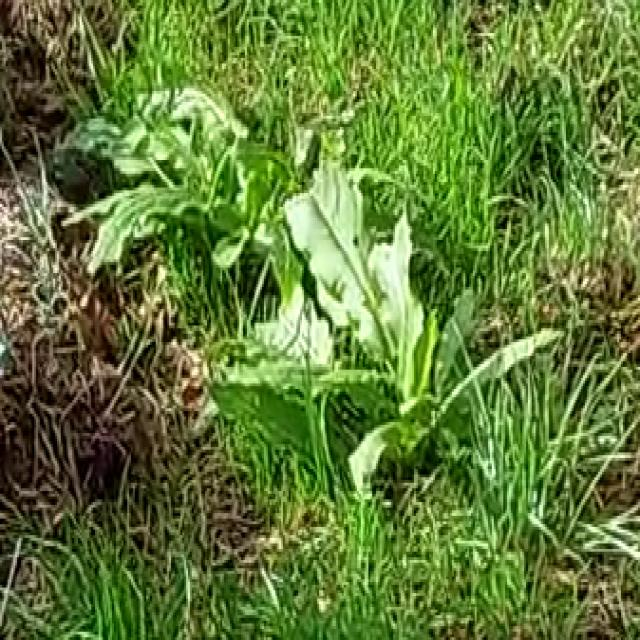organic waste: (57, 61, 327, 312), (255, 185, 488, 455)
